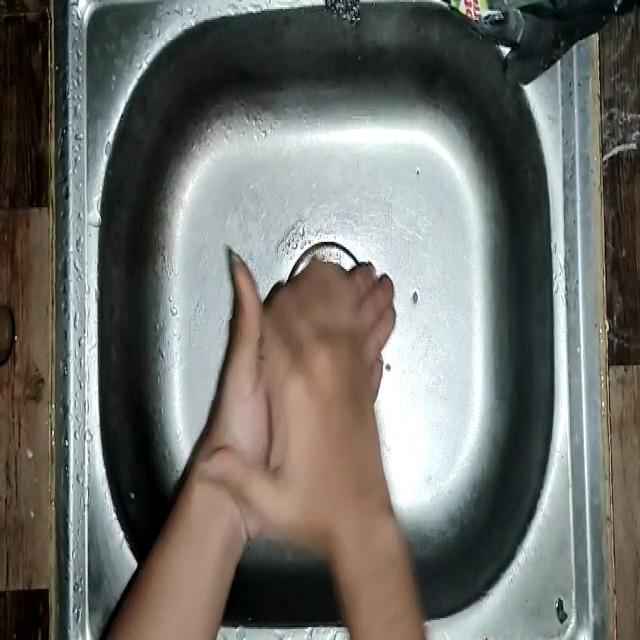step_5: (192, 243, 400, 536)
